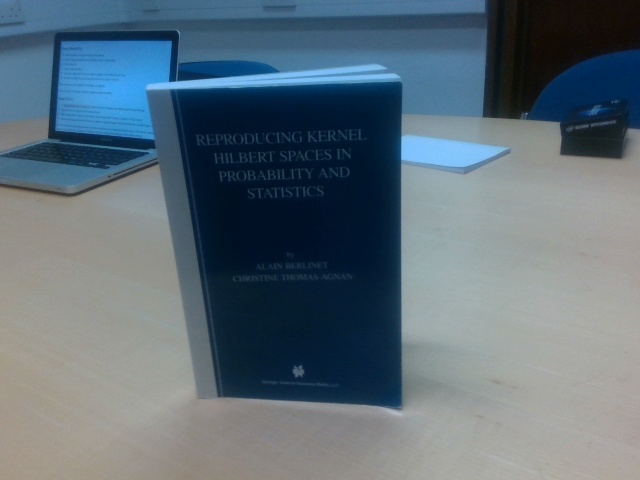book: (145, 65, 400, 411)
